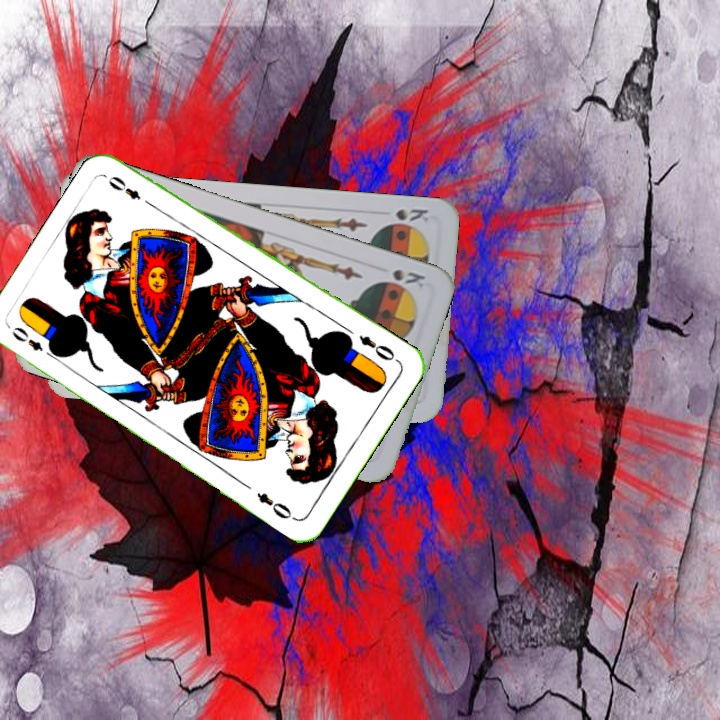EO: (7, 322, 59, 362), (355, 331, 401, 365)
SK: (388, 265, 428, 292), (391, 204, 432, 225)
